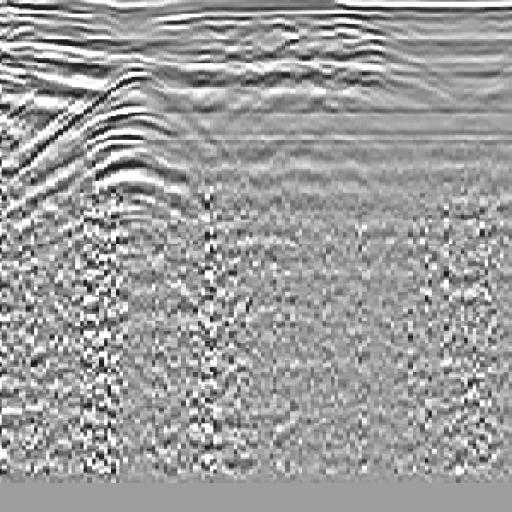metalic: (5, 61, 251, 237)
